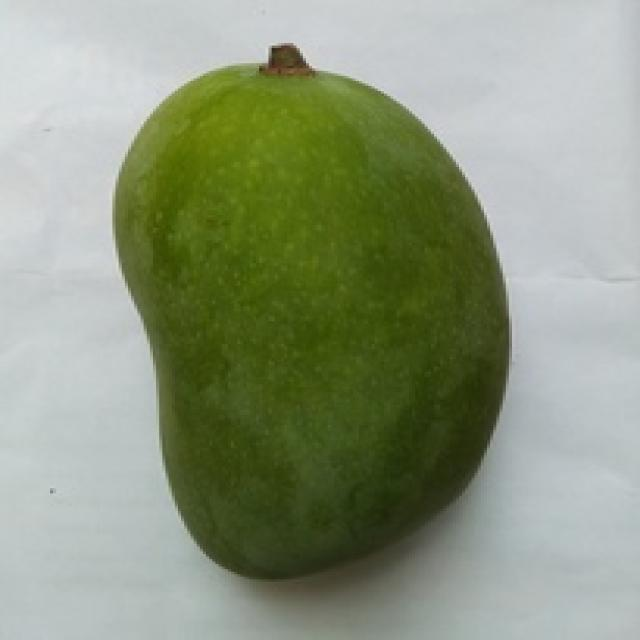Mango: (116, 46, 503, 577)
